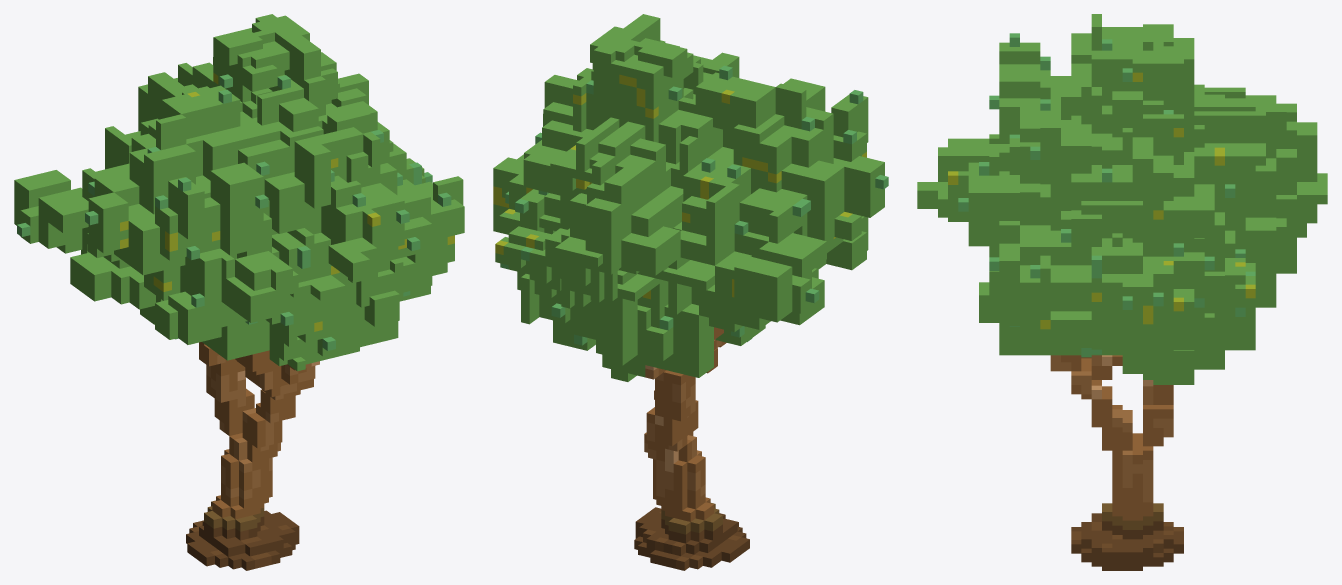
File: Arbórea - Pitanga jovem.obj
The picture shows the model from 3 angles, left to right: view 1: azimuth 30°, elevation 25°; view 2: azimuth 150°, elevation 25°; view 3: azimuth 270°, elevation 25°; orthographic projection. The views are drawn at different scales.
Size of the model in its own units: 4.3 by 5.6 by 4.
1 material, 1 textured.
